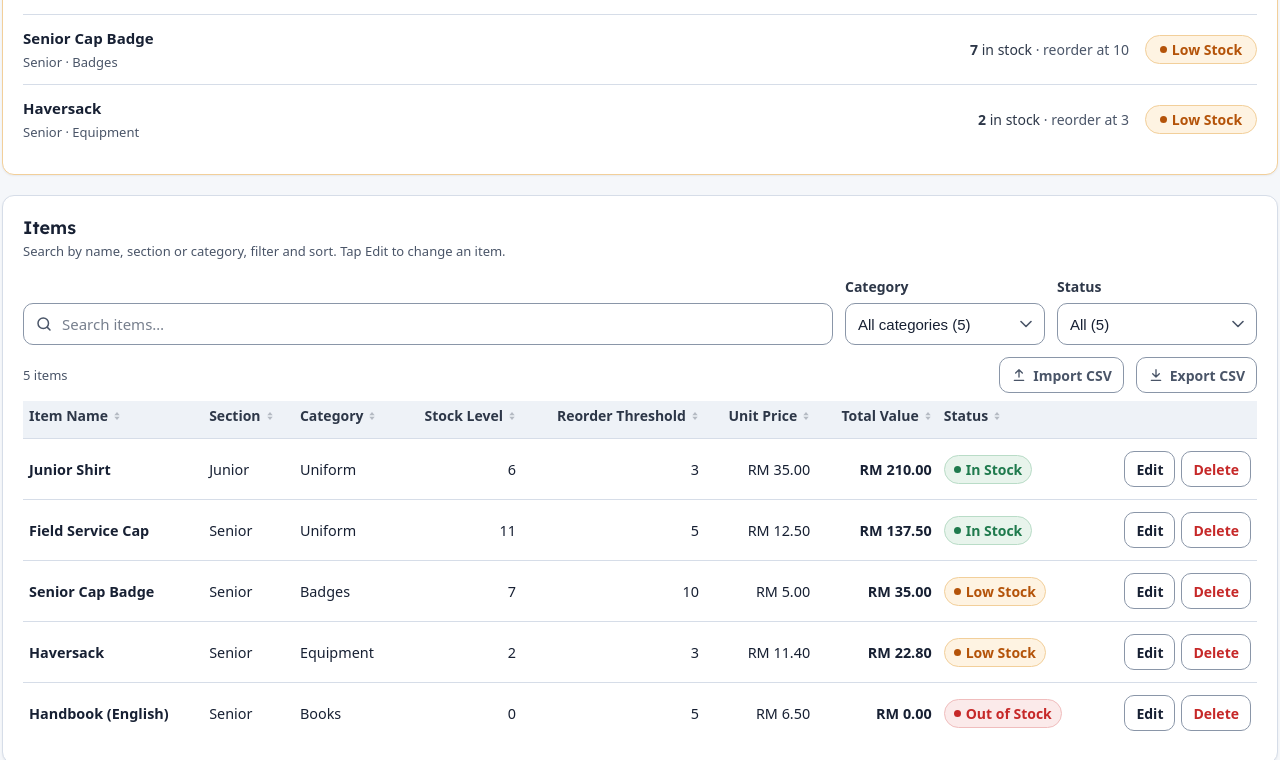
Test: the app › the badge changes the moment the stock level is typed, before saving
(page scrolled)
Click the button with aria-label "Edit Junior Shirt" at (1150, 469), box 1124,451 -> 1176,487
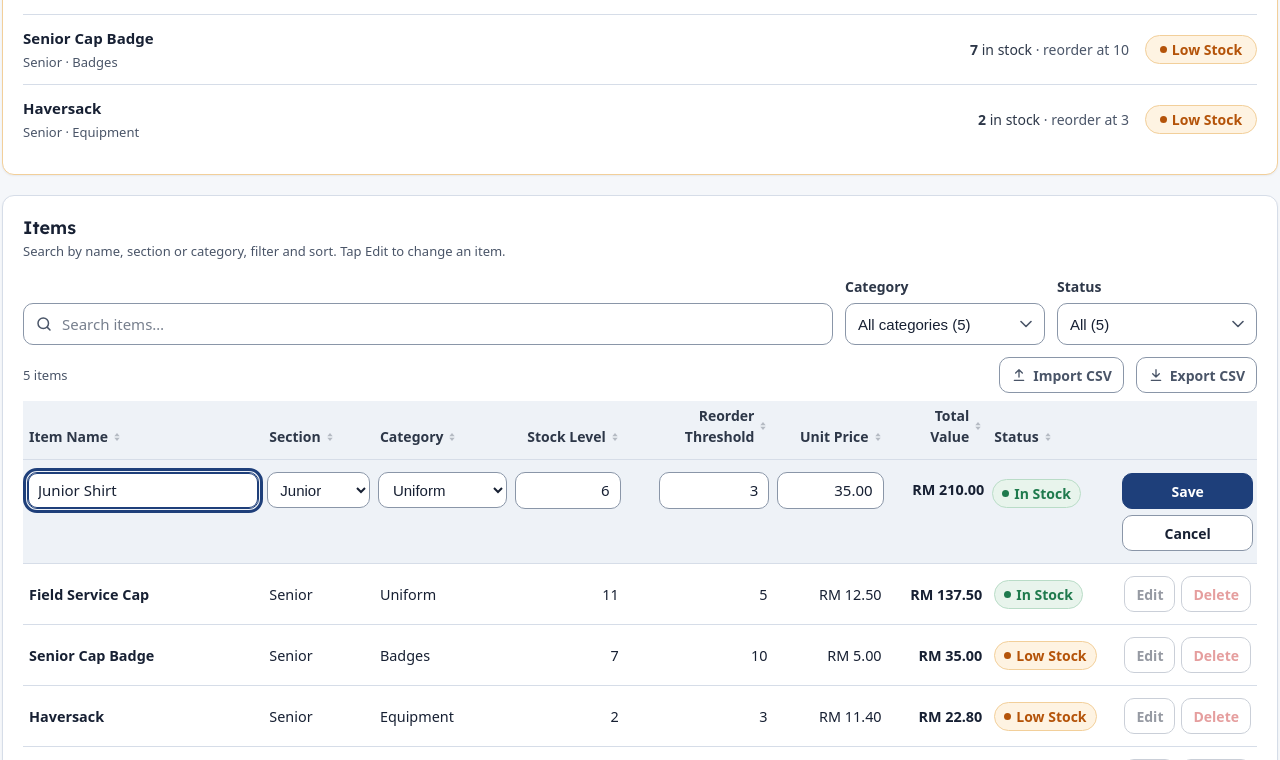
Replace the text in the field named "Stock level" with "3" at (568, 491), box 516,472 -> 621,509
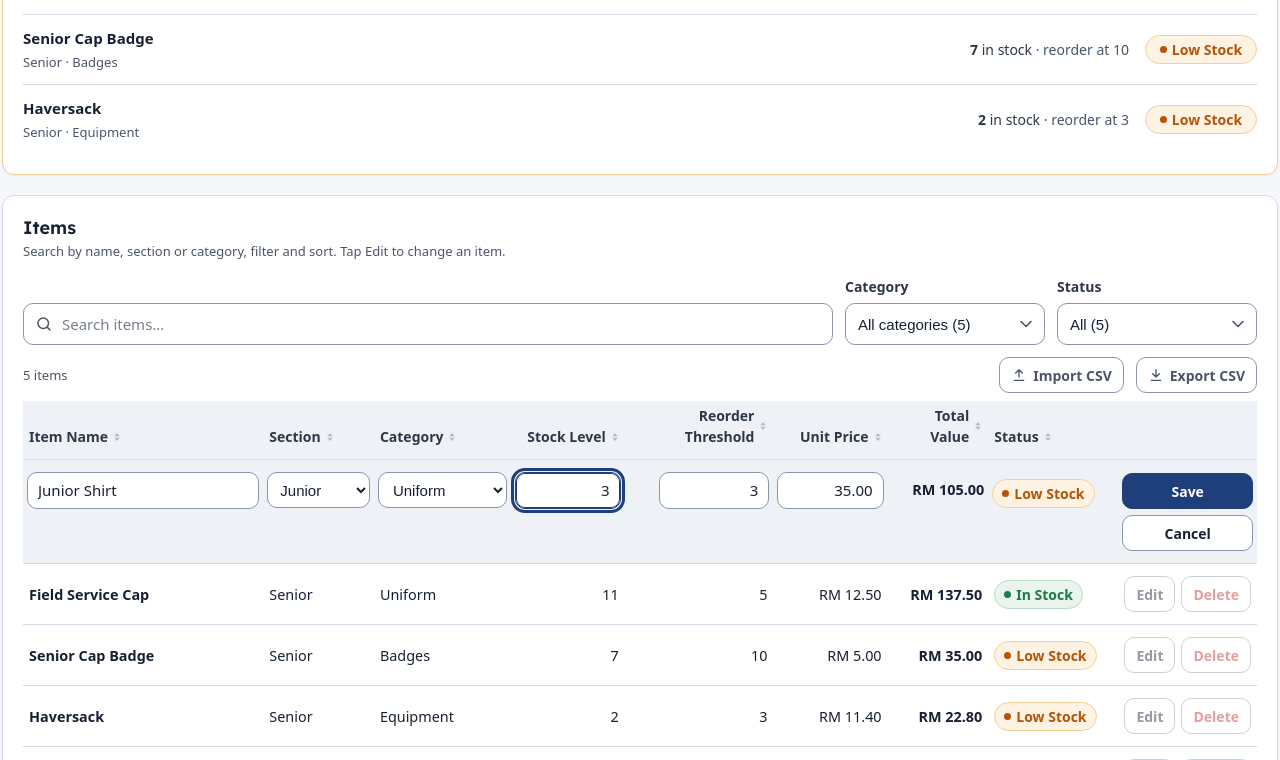
Expected: the cell "Low Stock" next to "RM 105.00" is shown, 1014,484 -> 1085,503
Replace the text in the field named "Stock level" with "0" at (568, 491), box 516,472 -> 621,509
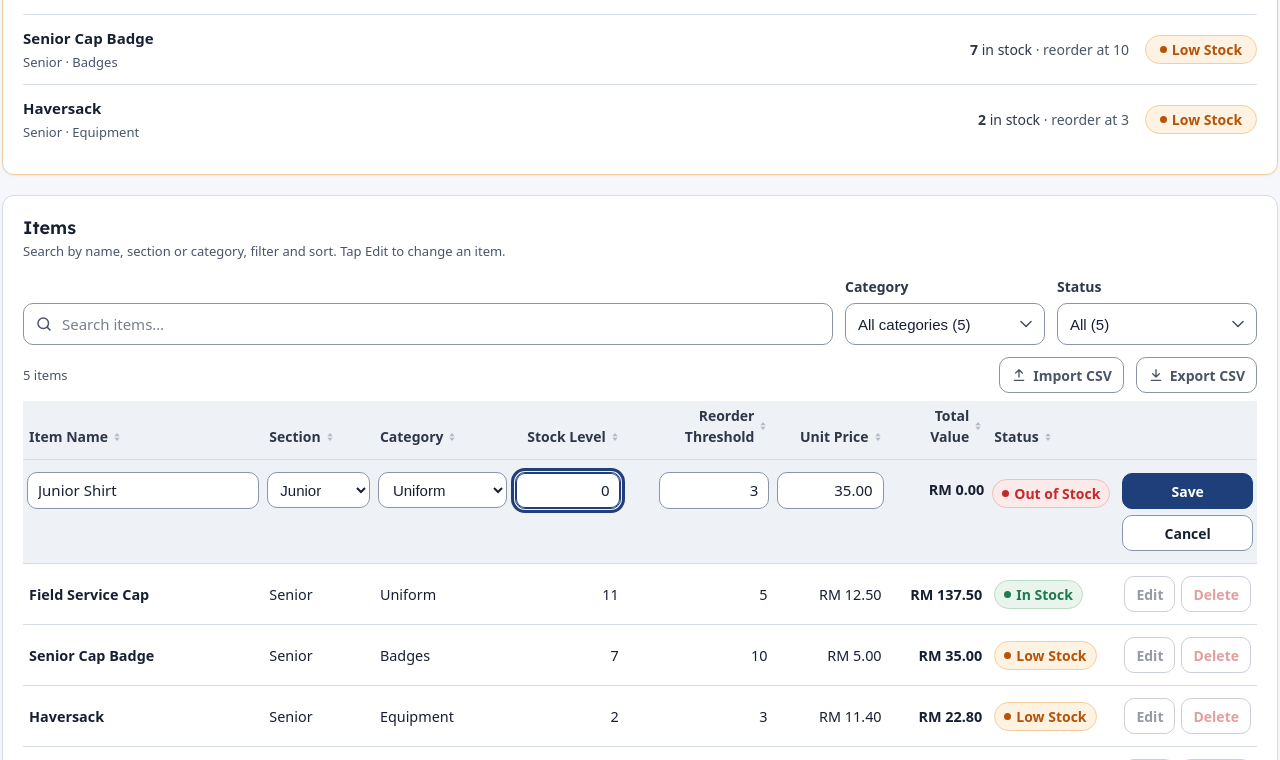
Expected: the 1st cell "Out of Stock" is shown, 988,460 -> 1118,564
Replace the text in the field named "Stock level" with "4" at (568, 491), box 516,472 -> 621,509
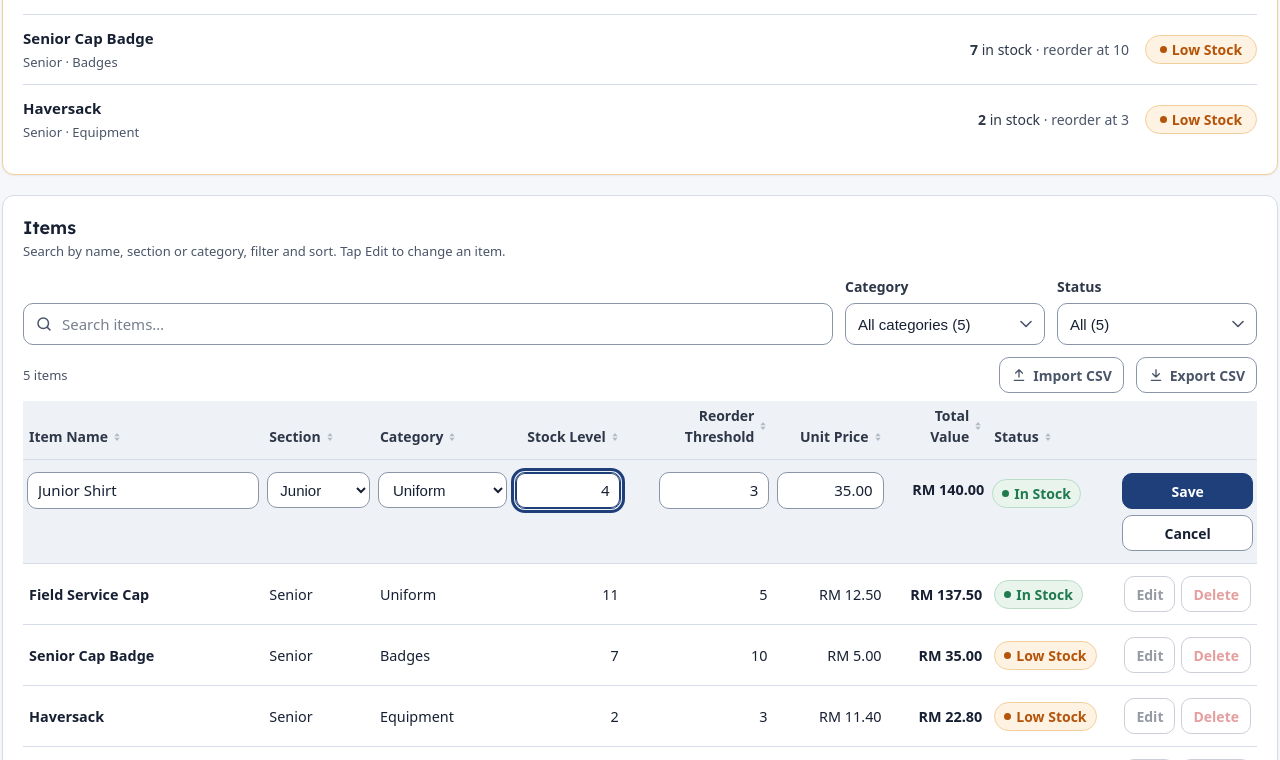
Expected: the cell "In Stock" next to "RM 140.00" is shown, 1014,484 -> 1071,503
